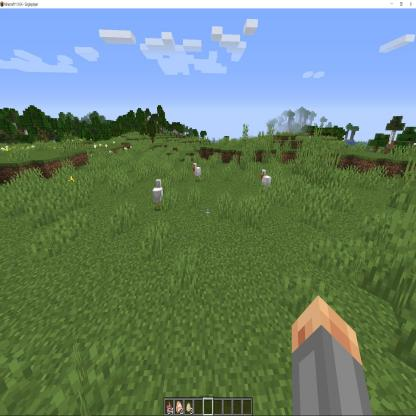minecraft-pigs: (151, 178, 165, 212), (258, 167, 274, 195), (191, 160, 204, 182)
